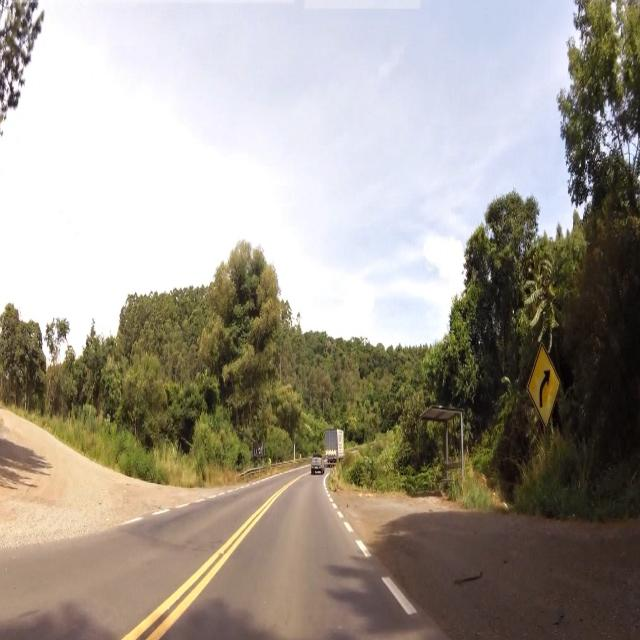A-2b: (522, 342, 563, 421)
